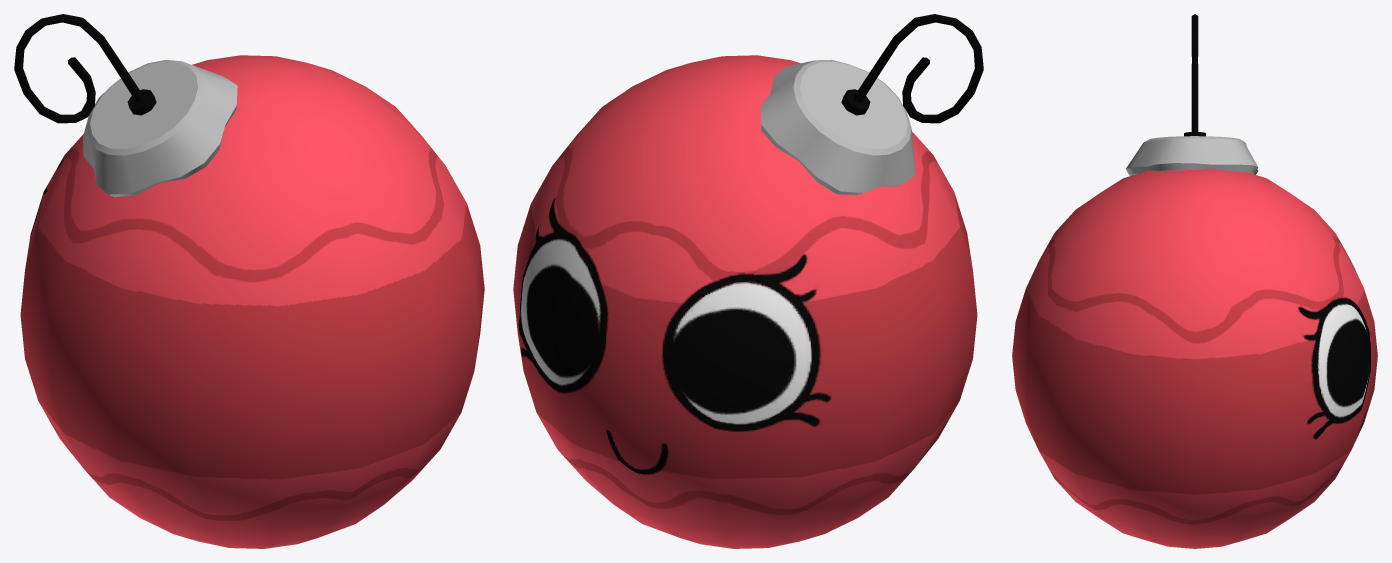
The model's file is bobette.glb.
The picture shows the model from 3 angles, left to right: view 1: azimuth 30°, elevation 25°; view 2: azimuth 150°, elevation 25°; view 3: azimuth 270°, elevation 25°; orthographic projection. The views are drawn at different scales.
Visible parts, largest first — view 1: Bobette Head; view 2: Bobette Head; view 3: Bobette Head.
Boxes of the visible parts, x1,y1,x2,y2 form: Bobette Head: (14, 14, 484, 548); Bobette Head: (513, 14, 983, 548); Bobette Head: (1012, 14, 1377, 548).
Bounding box in the file's own units: 2.82 × 3.44 × 2.6.
1 material, 1 textured.
